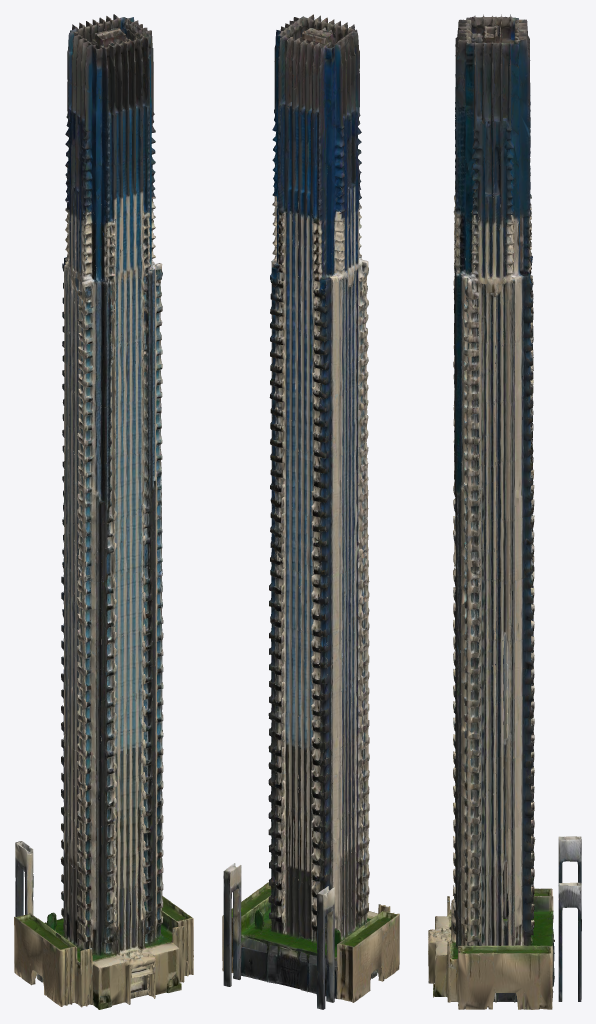
File: vida-residence-downtown.glb
3 renders of one model, left to right at view 1: azimuth 30°, elevation 25°; view 2: azimuth 150°, elevation 25°; view 3: azimuth 270°, elevation 25°, orthographic.
Parts seen in each view (by area): view 1: Mesh_0; view 2: Mesh_0; view 3: Mesh_0.
Boxes of the visible parts, x1,y1,x2,y2 form: Mesh_0: [14, 14, 193, 1009]; Mesh_0: [222, 14, 399, 1009]; Mesh_0: [428, 14, 581, 1009].
Bounding box in the file's own units: 35 × 238 × 35.
1 material, 1 textured.
